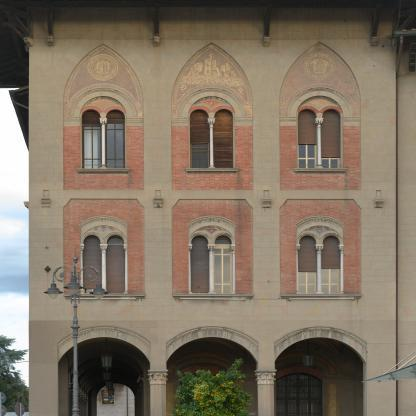Building Outline: (0, 0, 416, 416)
Cornice: (57, 325, 150, 363), (274, 325, 367, 363), (165, 325, 259, 362), (180, 362, 227, 381), (276, 362, 323, 381), (212, 105, 235, 114), (319, 106, 343, 114), (80, 106, 103, 114), (103, 106, 126, 114), (297, 106, 320, 114), (188, 106, 211, 114)
Deco: (279, 42, 361, 126), (171, 43, 253, 126), (63, 44, 144, 126), (188, 216, 236, 240), (80, 216, 127, 240), (297, 216, 344, 240)
Door: (274, 337, 367, 416), (58, 337, 150, 416), (166, 337, 258, 416)
Facade: (1, 0, 415, 416)
Floor: (30, 197, 416, 318)
Floor Slab: (30, 318, 416, 324), (30, 191, 416, 197)
Ground Floor: (30, 324, 416, 416)
Pillar: (254, 369, 277, 416), (147, 370, 168, 416)
Top Floor: (30, 11, 416, 191)
Window: (276, 373, 323, 416), (180, 373, 227, 416), (81, 109, 102, 168), (321, 109, 342, 168), (213, 109, 234, 168), (321, 235, 341, 294), (213, 235, 233, 294), (105, 109, 125, 168), (298, 109, 318, 168), (190, 109, 210, 168), (298, 235, 317, 294), (106, 235, 125, 294), (190, 235, 209, 294), (83, 235, 102, 293)
